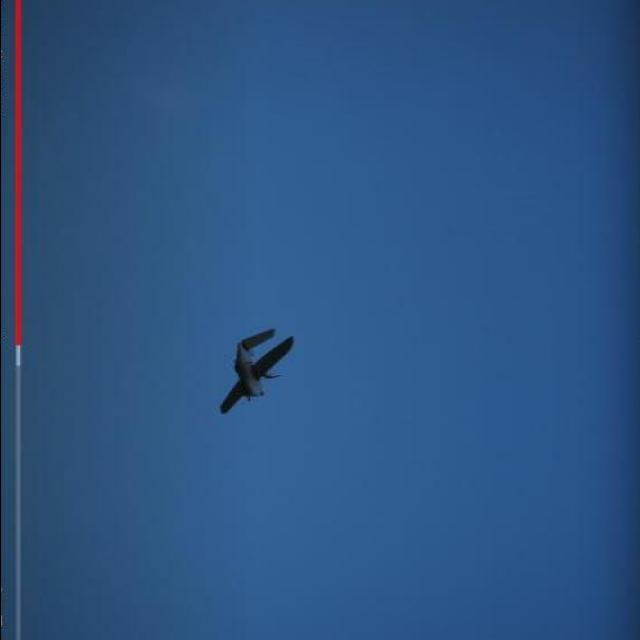plane: (218, 326, 296, 414)
